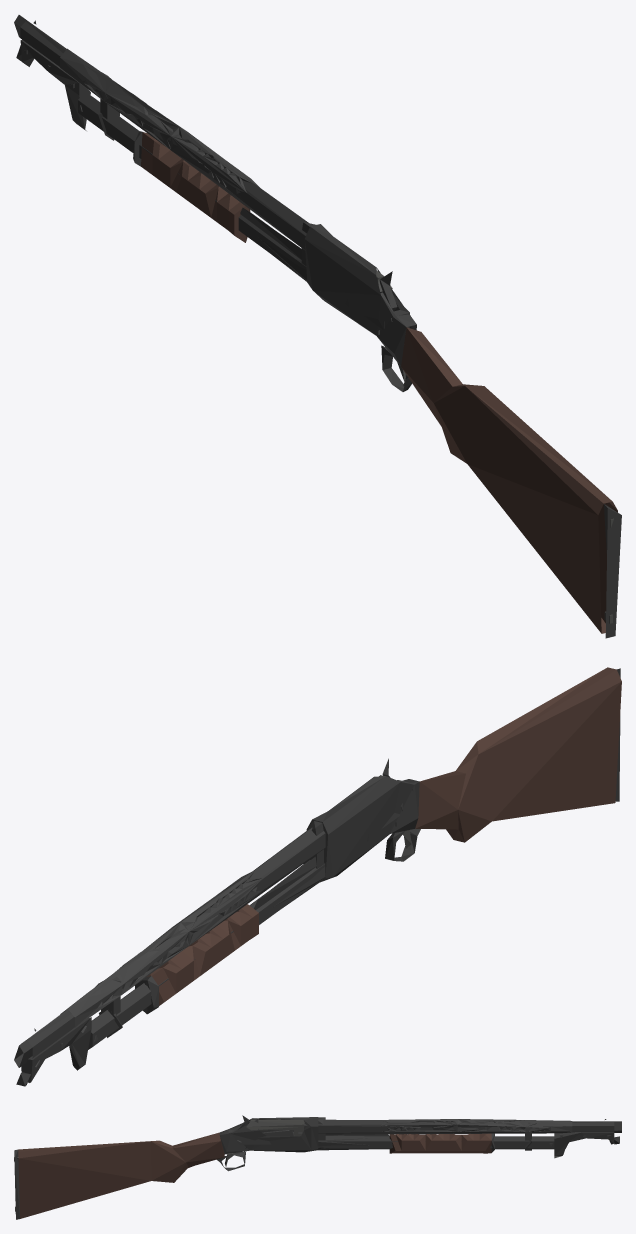
File: escopeta_r.glb
The picture shows the model from 3 angles, top to bottom: view 1: azimuth 30°, elevation 25°; view 2: azimuth 150°, elevation 25°; view 3: azimuth 270°, elevation 25°; orthographic projection. The views are drawn at different scales.
Visible parts, largest first — view 1: Object_22, Object_17, Object_18; view 2: Object_22, Object_17, Object_18; view 3: Object_22, Object_17, Object_18, Object_21.
Part boxes in pixels (x1,y1,x2,y2): Object_22: (141, 132, 617, 633); Object_17: (14, 15, 621, 638); Object_18: (23, 20, 409, 334); Object_22: (146, 667, 621, 1005); Object_17: (14, 668, 620, 1086); Object_18: (34, 780, 412, 1067); Object_22: (18, 1132, 491, 1218); Object_17: (14, 1115, 621, 1219); Object_18: (228, 1119, 610, 1148); Object_21: (14, 1119, 304, 1211).
Bounding box in the file's own units: 0.0227 × 0.1894 × 1.
